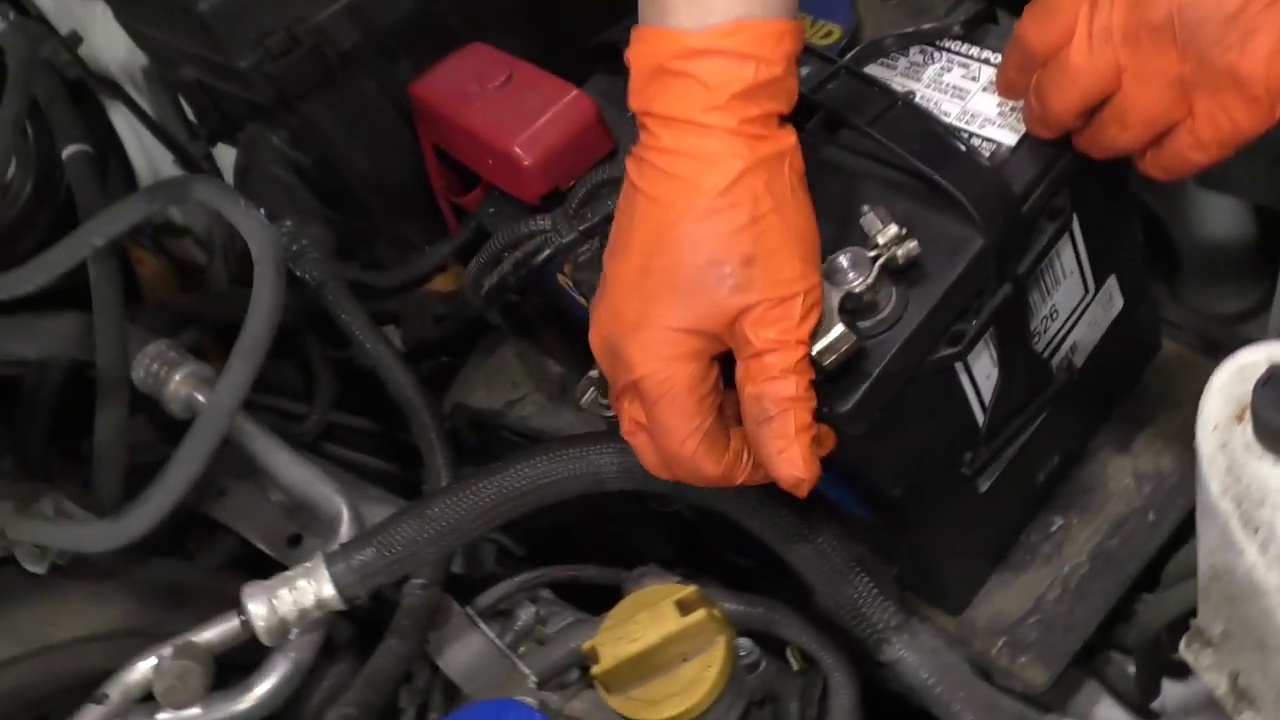battery: (491, 6, 1089, 413)
neg_connected: (761, 192, 935, 383)
neg_touched: (665, 175, 925, 497)
pos_connected: (378, 34, 618, 260)
